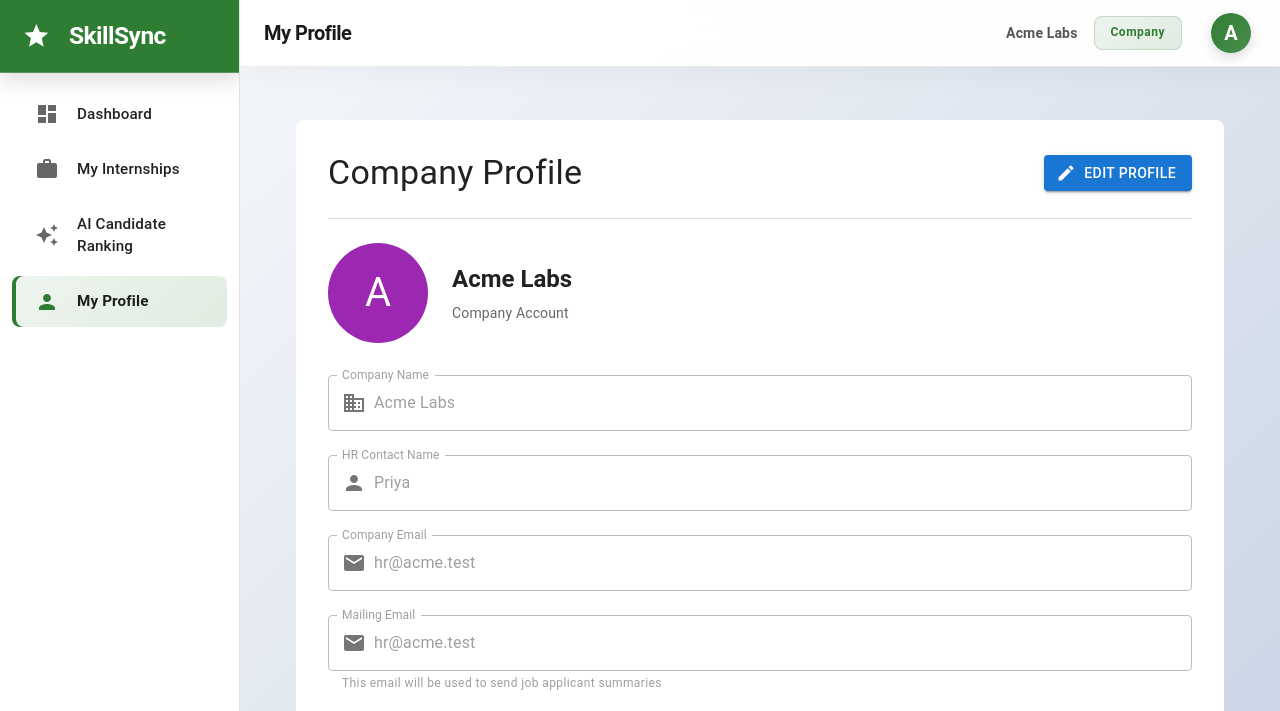
a new company name shows in the top bar right after saving
This screenshot has width=1280, height=711.
Click the button "Edit Profile".
click(1118, 173)  # box [1044,155,1192,191]
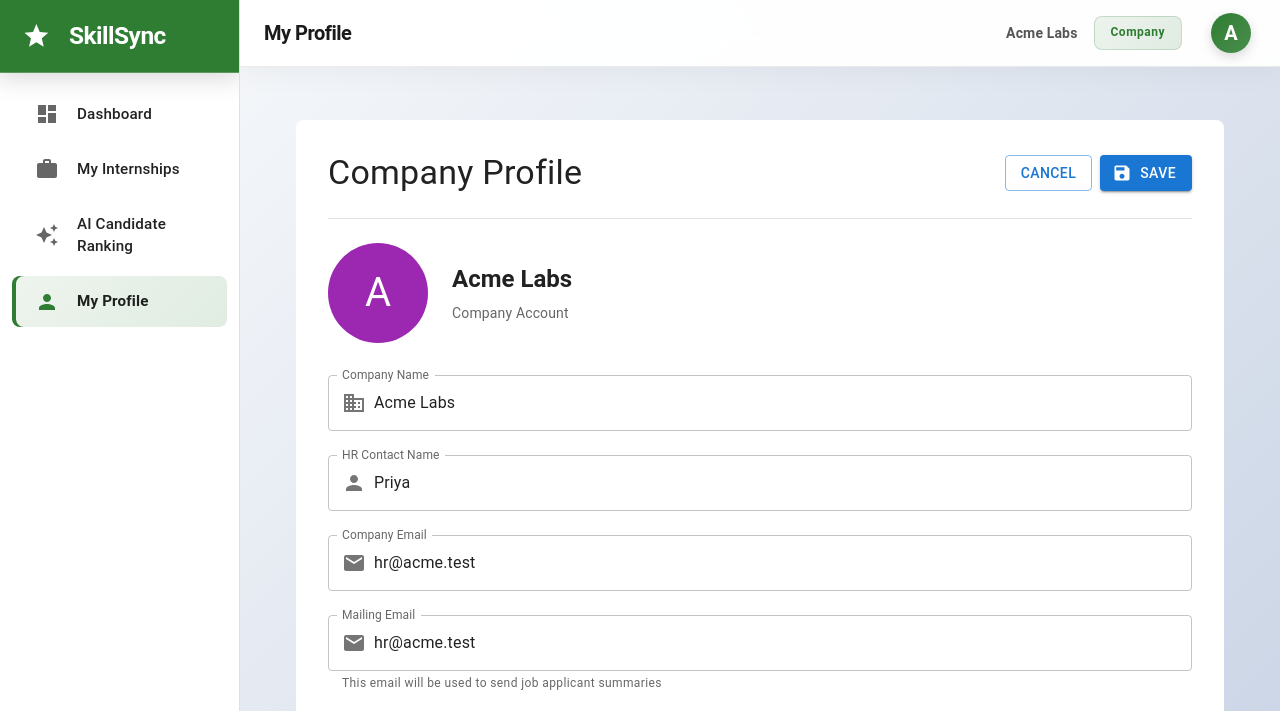
Replace the text in the field labelled "Company Name" with "Acme Robotics" at (783, 403), box [374,375,1192,431]
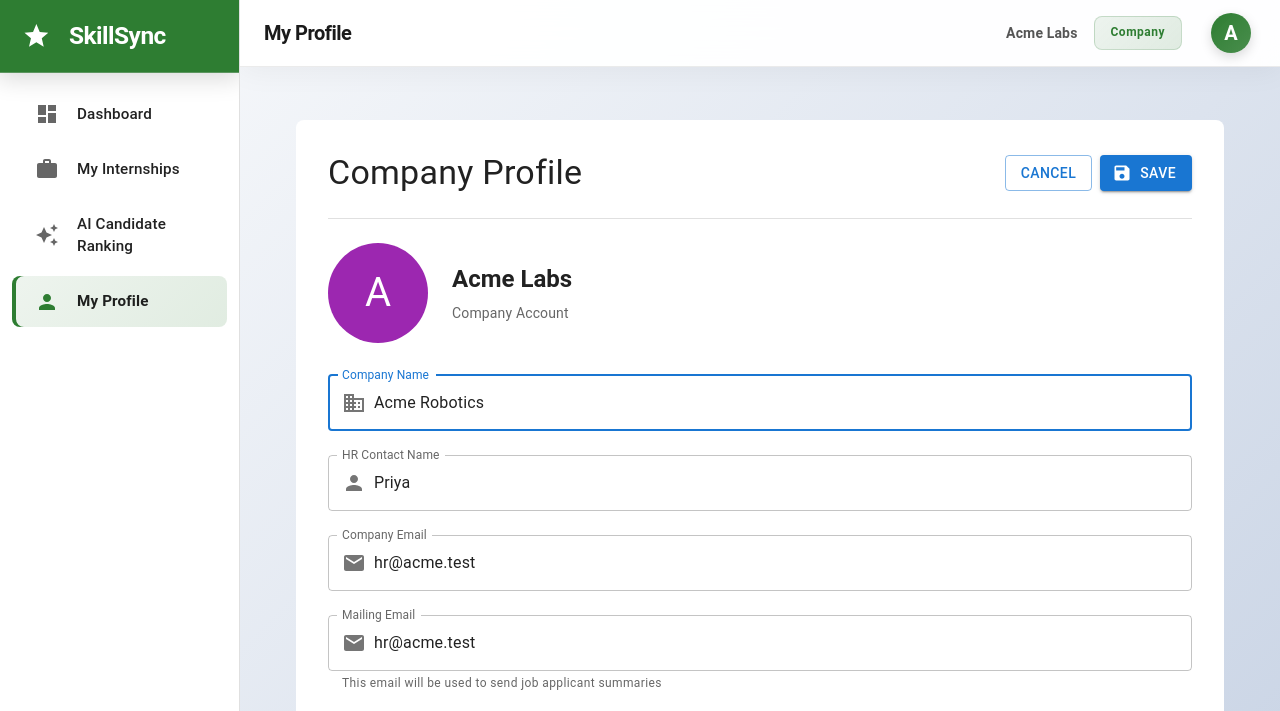
Click the button "Save".
click(1146, 173)  # box [1100,155,1192,191]
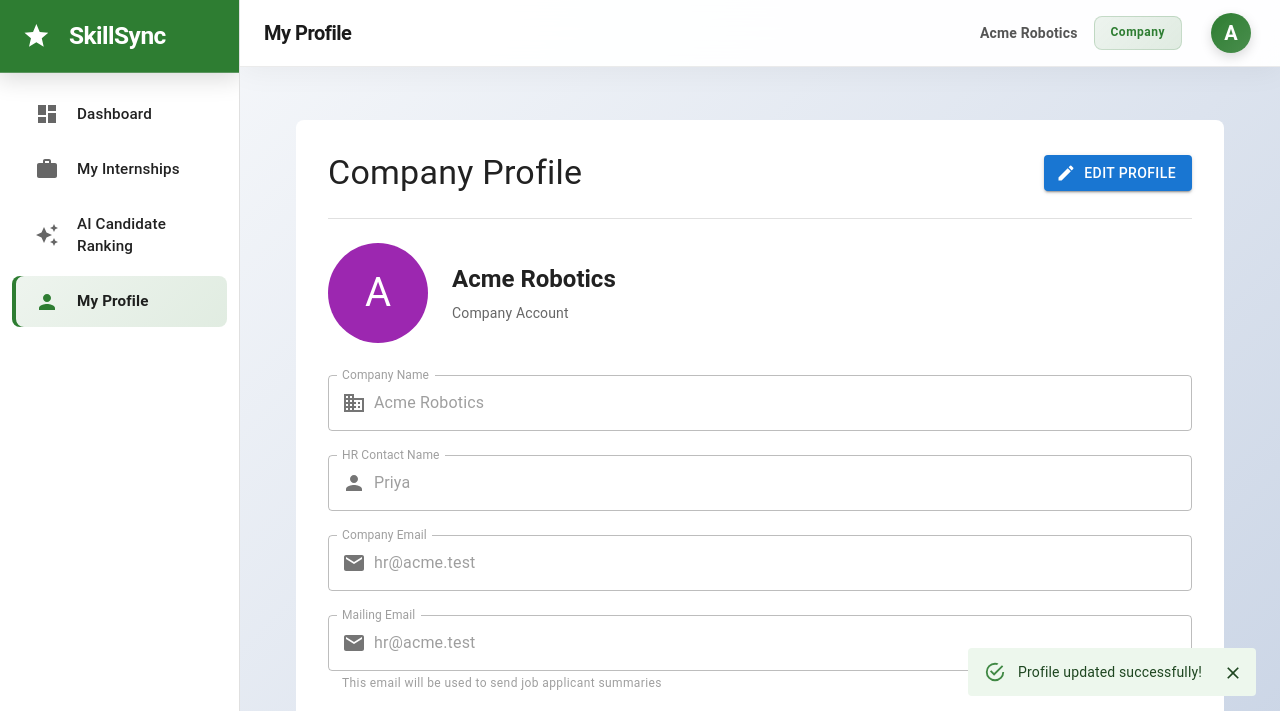
Now the text "Profile updated successfully!" is shown, box [1018,664,1202,680]
Now the text "Acme Labs" is gone
